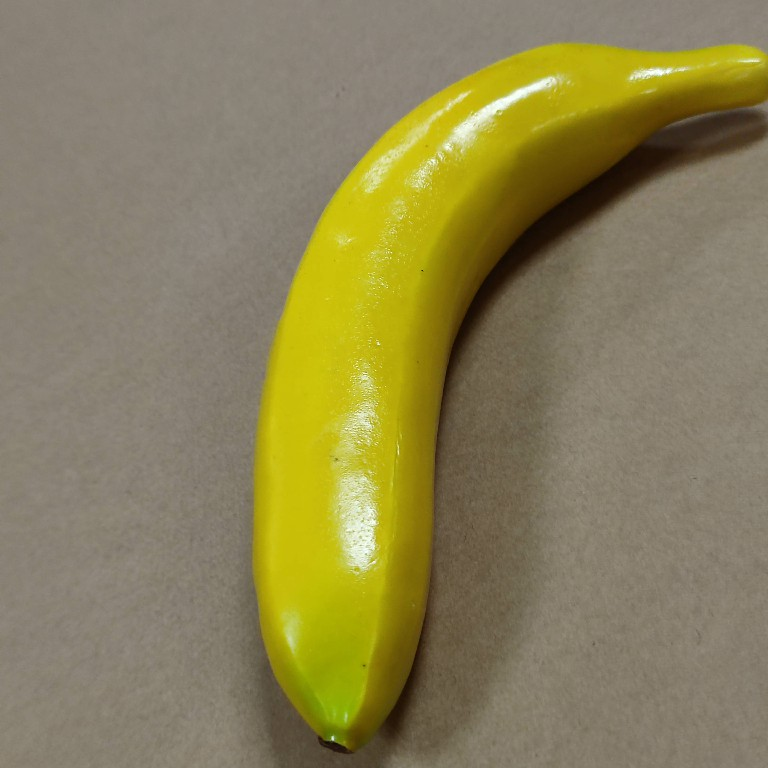fruit_banana: (246, 39, 768, 756)
